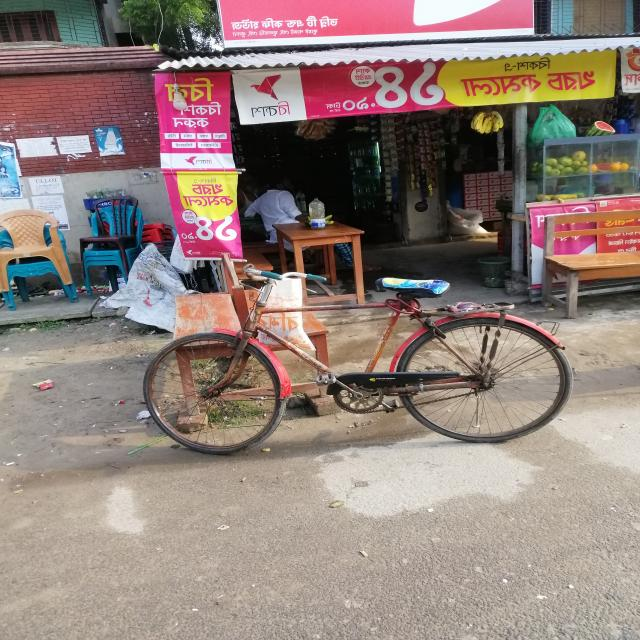Bicycle: (139, 274, 577, 461)
